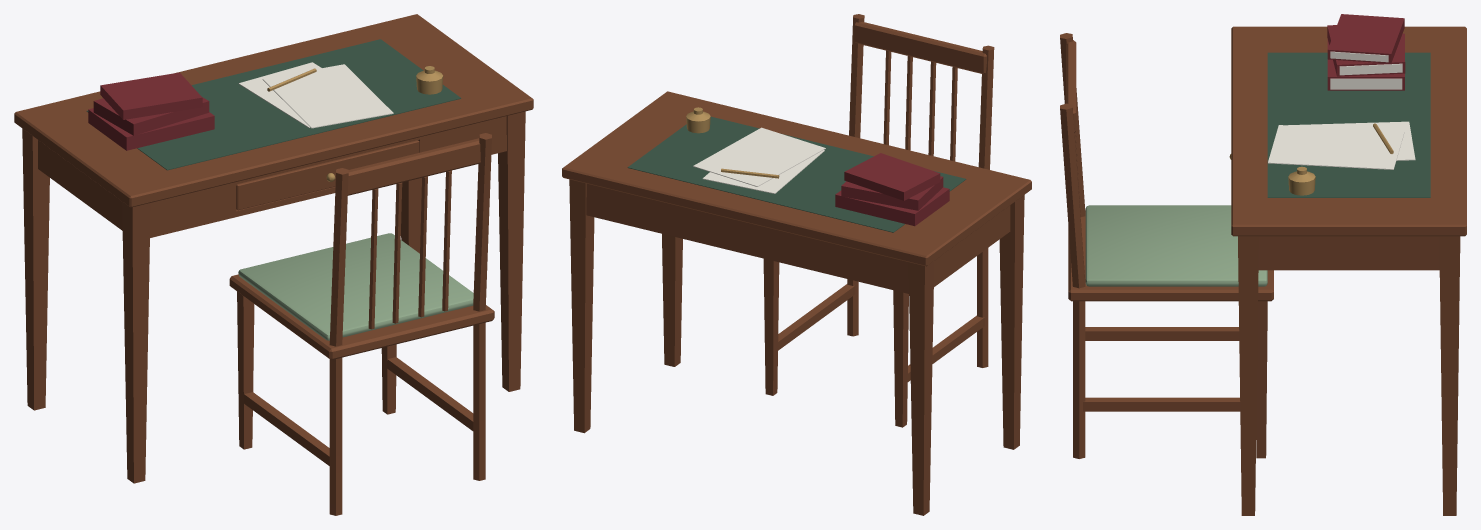
Rendered from writing_desk.glb.
3 views of the same model, side by side, from view 1: azimuth 30°, elevation 25°; view 2: azimuth 150°, elevation 25°; view 3: azimuth 270°, elevation 25° (orthographic). The views are drawn at different scales.
Visible parts, largest first — view 1: writing_desk, chair, desk_items, drawer; view 2: writing_desk, chair, desk_items; view 3: writing_desk, chair, desk_items.
Boxes of the visible parts, left/top/right/bottom form: writing_desk: left=14, top=14, right=533, bottom=483; chair: left=229, top=133, right=494, bottom=515; desk_items: left=88, top=62, right=443, bottom=150; drawer: left=236, top=140, right=419, bottom=210; writing_desk: left=562, top=91, right=1031, bottom=515; chair: left=763, top=14, right=994, bottom=427; desk_items: left=686, top=107, right=949, bottom=226; writing_desk: left=1231, top=26, right=1466, bottom=515; chair: left=1060, top=33, right=1273, bottom=458; desk_items: left=1268, top=14, right=1415, bottom=195.
Size of the model in its own units: 1.1 by 0.901 by 0.9497.
